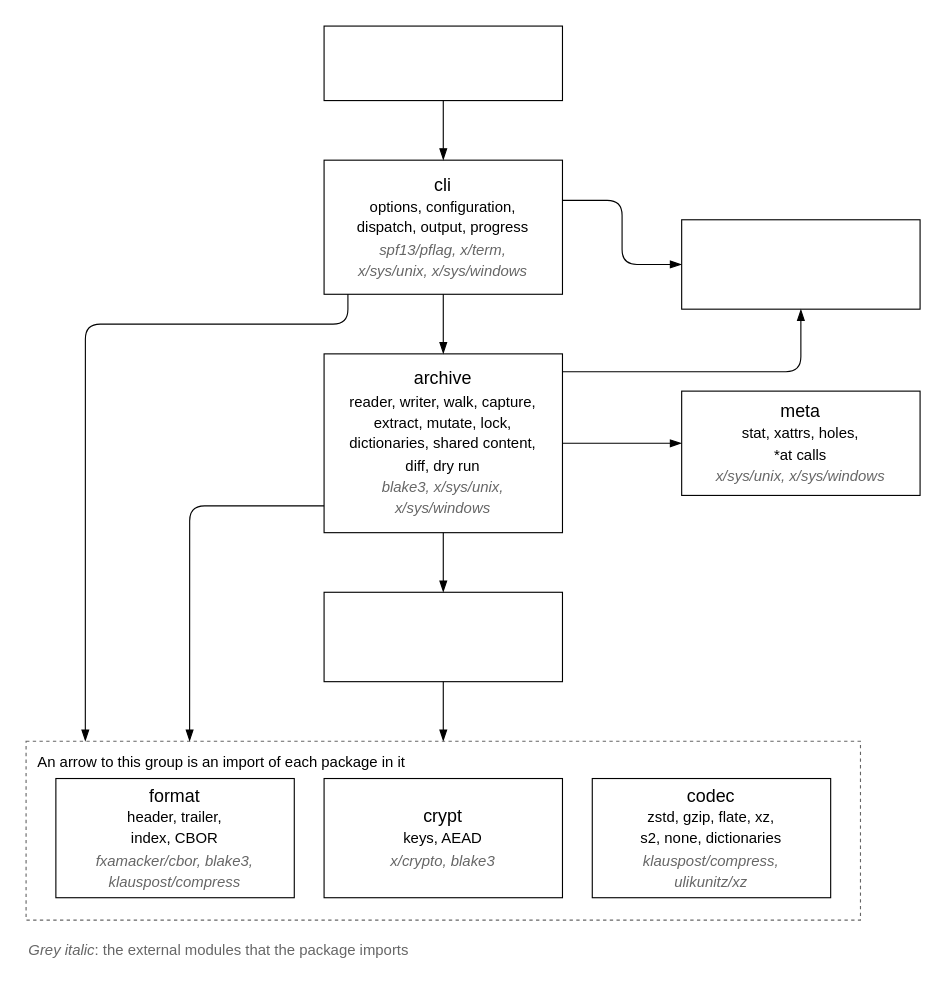
Image size: 946x991. Some labels were removed from this diagram. The shapes that lost their labels are listed below. From the top down, each one's centre as x and y in pixels, then its label:
(442,62): cmd/eictar main.go
(800,263): fsutil paths, patterns, regular expressions
(442,636): pipeline budget, spool, builder x/sys/windows
